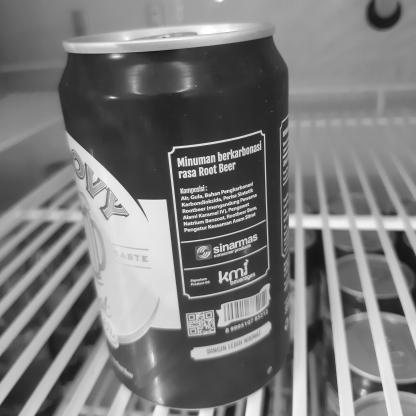alumunium_can: (49, 15, 314, 414)
